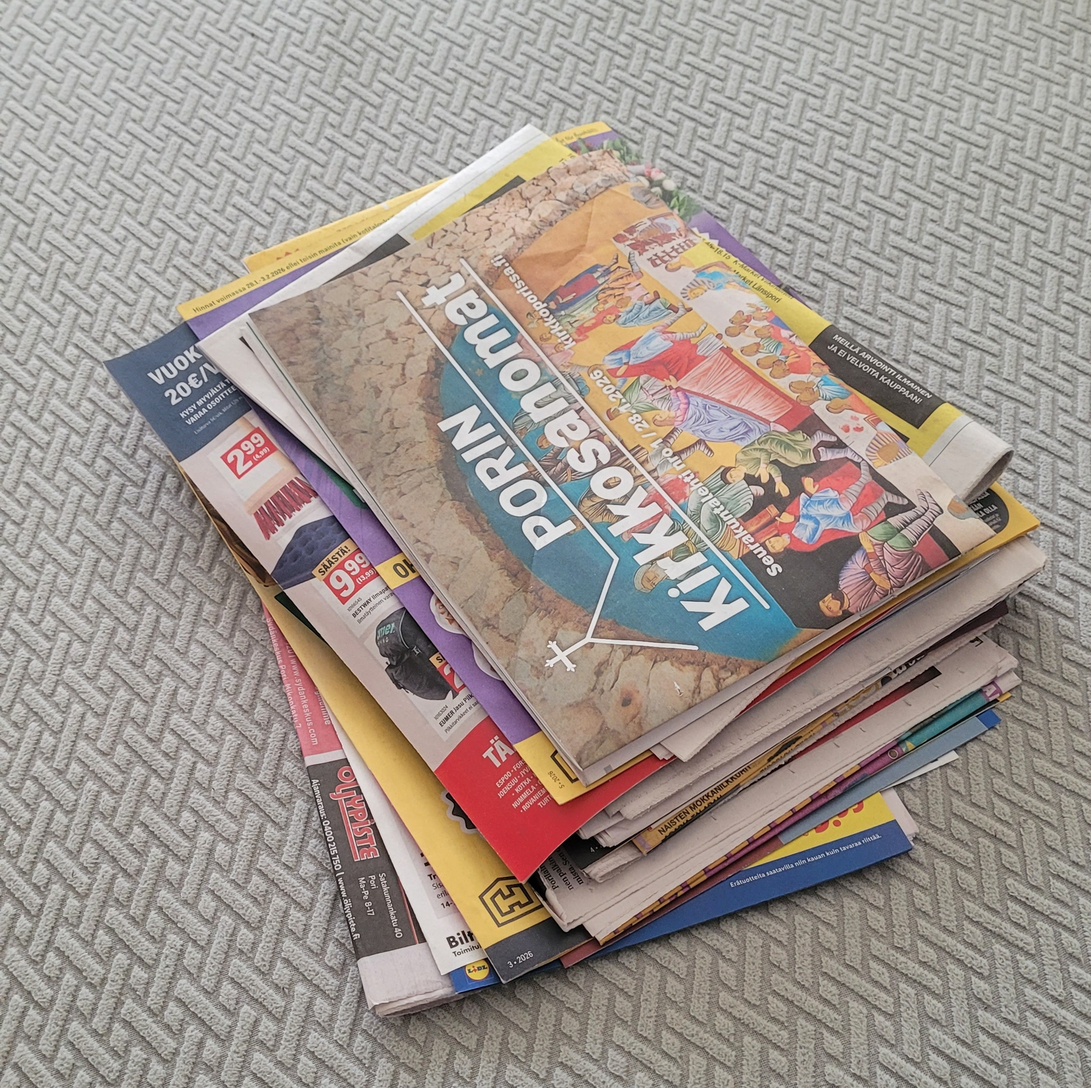paper: (236, 238, 898, 1041)
